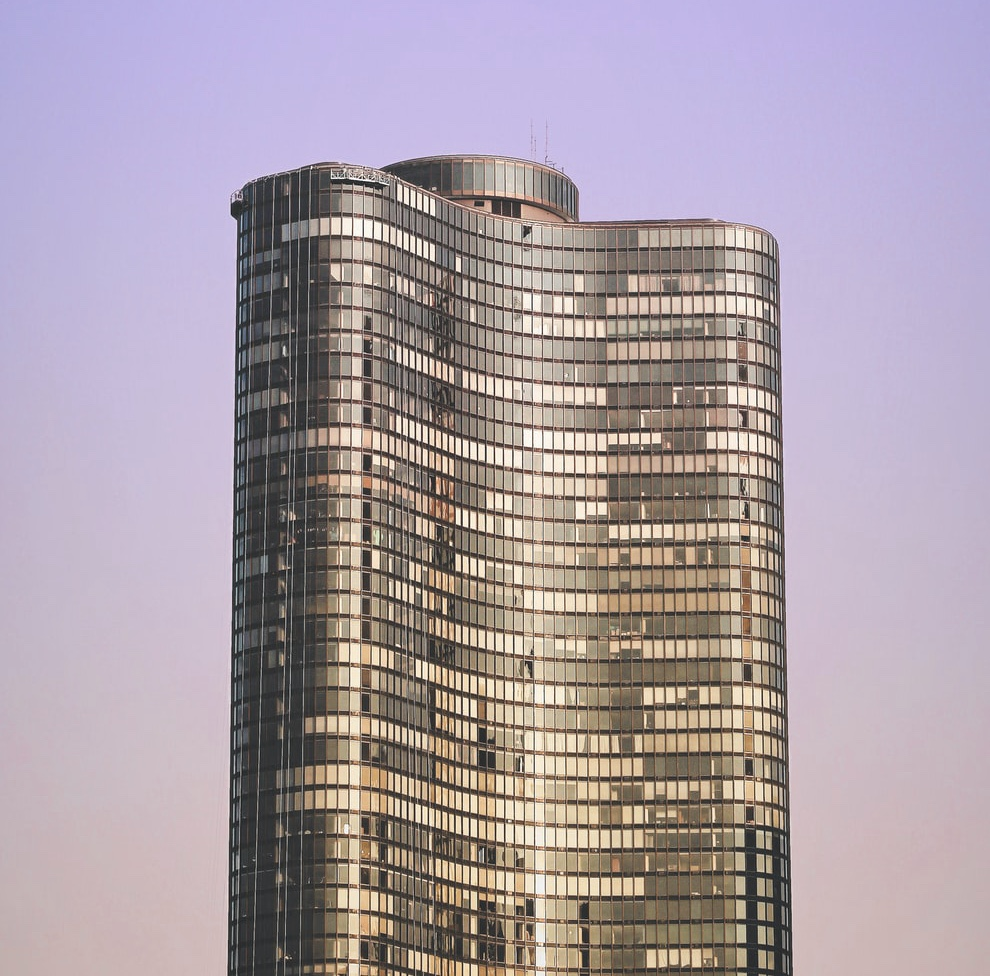Sky Building: (208, 144, 805, 966)
